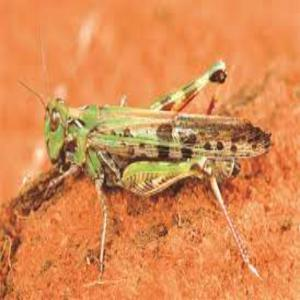locust: (28, 64, 273, 237)
